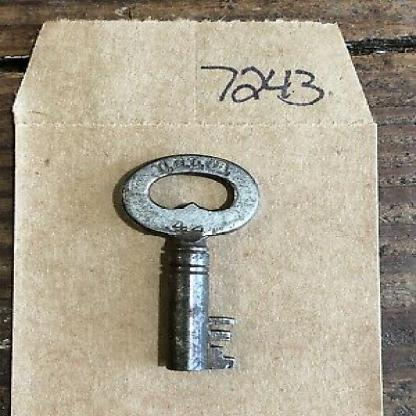keys: (115, 151, 266, 371)
